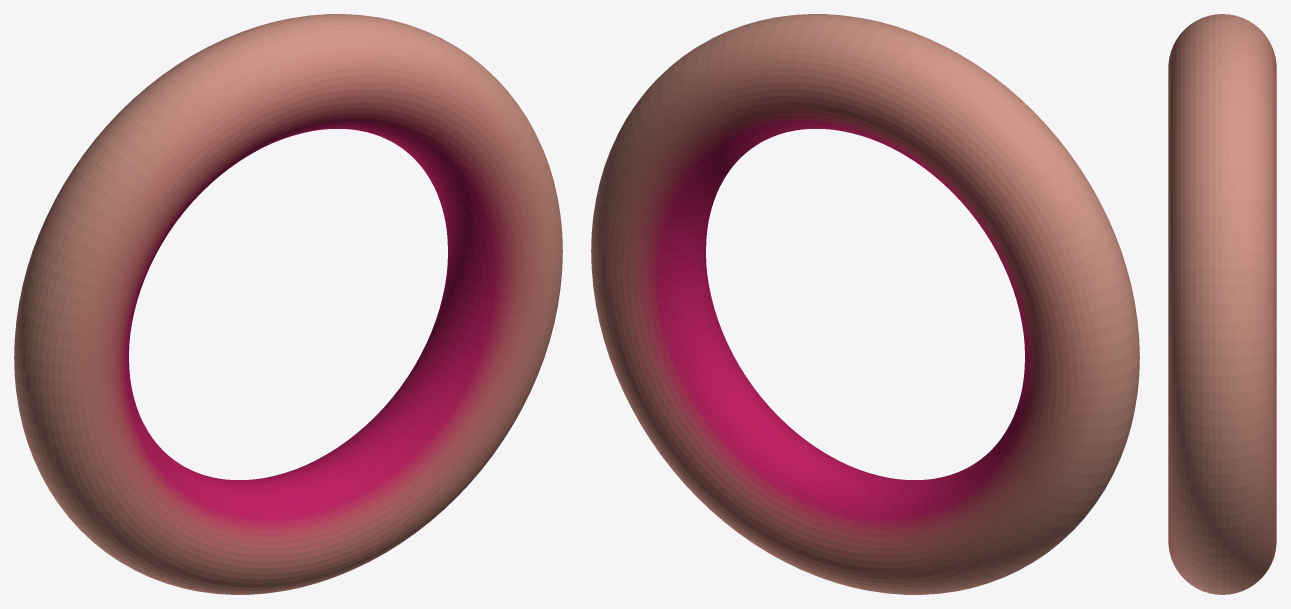
3 renders of one model, left to right at view 1: azimuth 30°, elevation 25°; view 2: azimuth 150°, elevation 25°; view 3: azimuth 270°, elevation 25°, orthographic. The views are drawn at different scales.
Visible parts, largest first — view 1: world; view 2: world; view 3: world.
Part boxes in pixels (bbox=[...]): world: bbox=[14, 14, 562, 594]; world: bbox=[591, 14, 1139, 594]; world: bbox=[1168, 14, 1276, 594].
Size of the model in its own units: 33.6 by 33.6 by 6.25.
